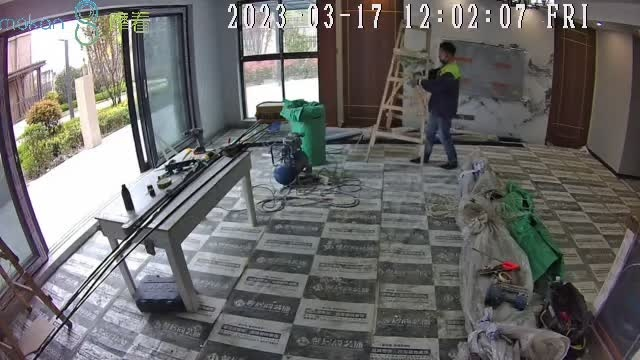people: (411, 42, 462, 170)
window: (242, 3, 321, 120)
